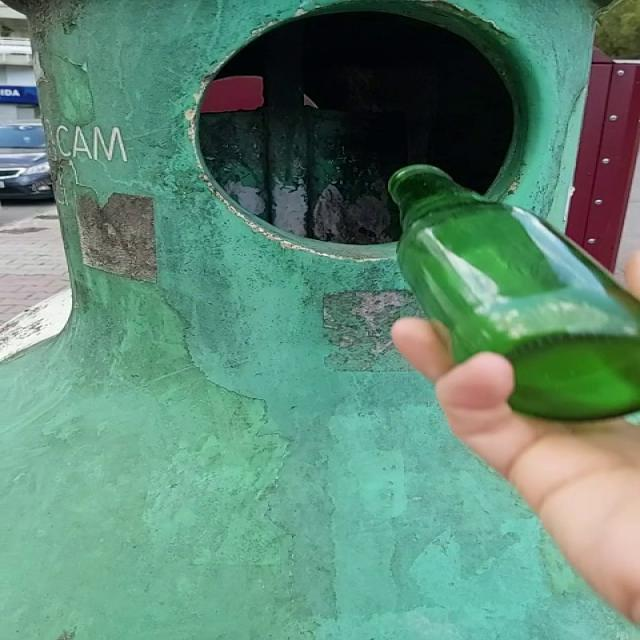glass: (389, 165, 640, 421)
